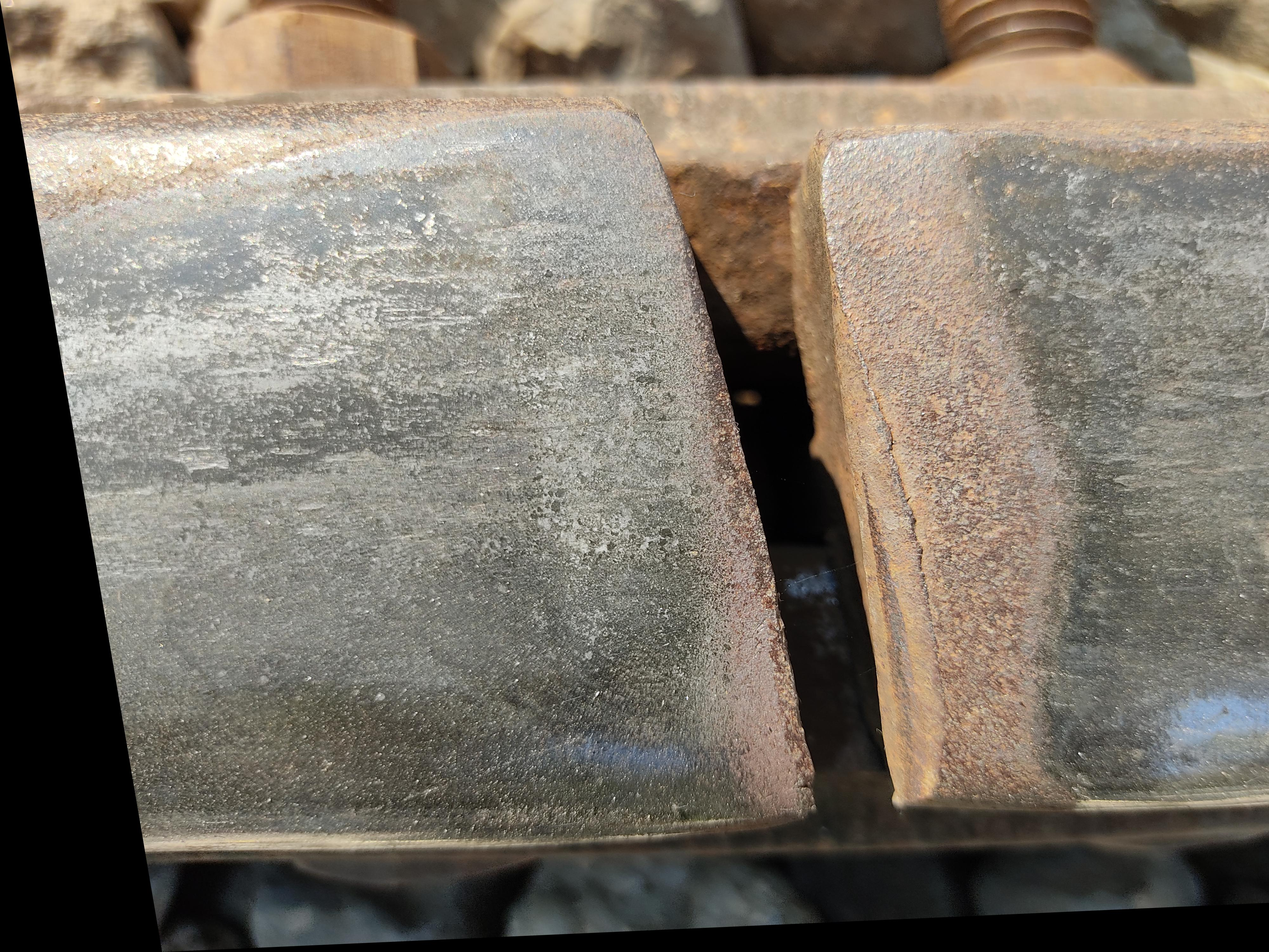person: (345, 25, 1173, 882)
